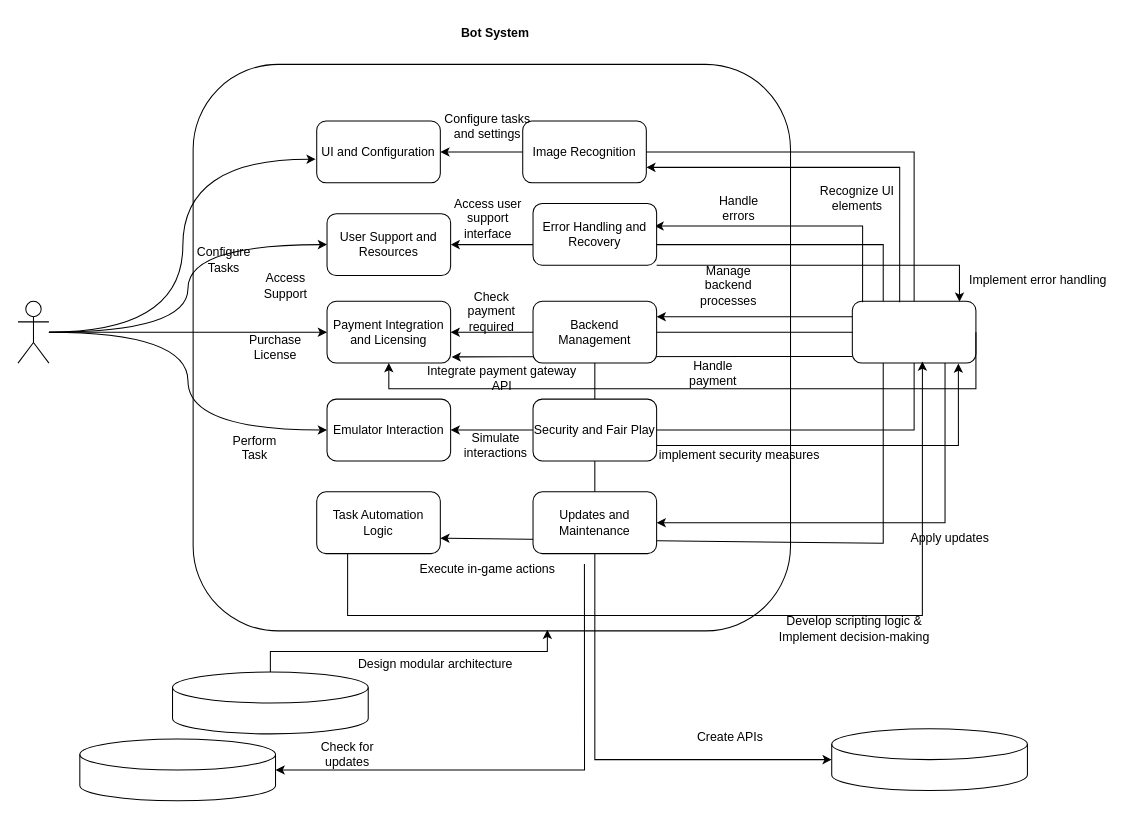
Some shapes in this 1138 by 819 pixel diagram are drawn without their labels. Here are the shapes that lost their labels. From the top down, the box of each, then its label:
(17, 300, 49, 363): User
(851, 300, 976, 363): BotSys
(171, 671, 368, 734): Microservices
(79, 738, 276, 801): Version Control Syystem
(831, 728, 1027, 791): Bot Application
